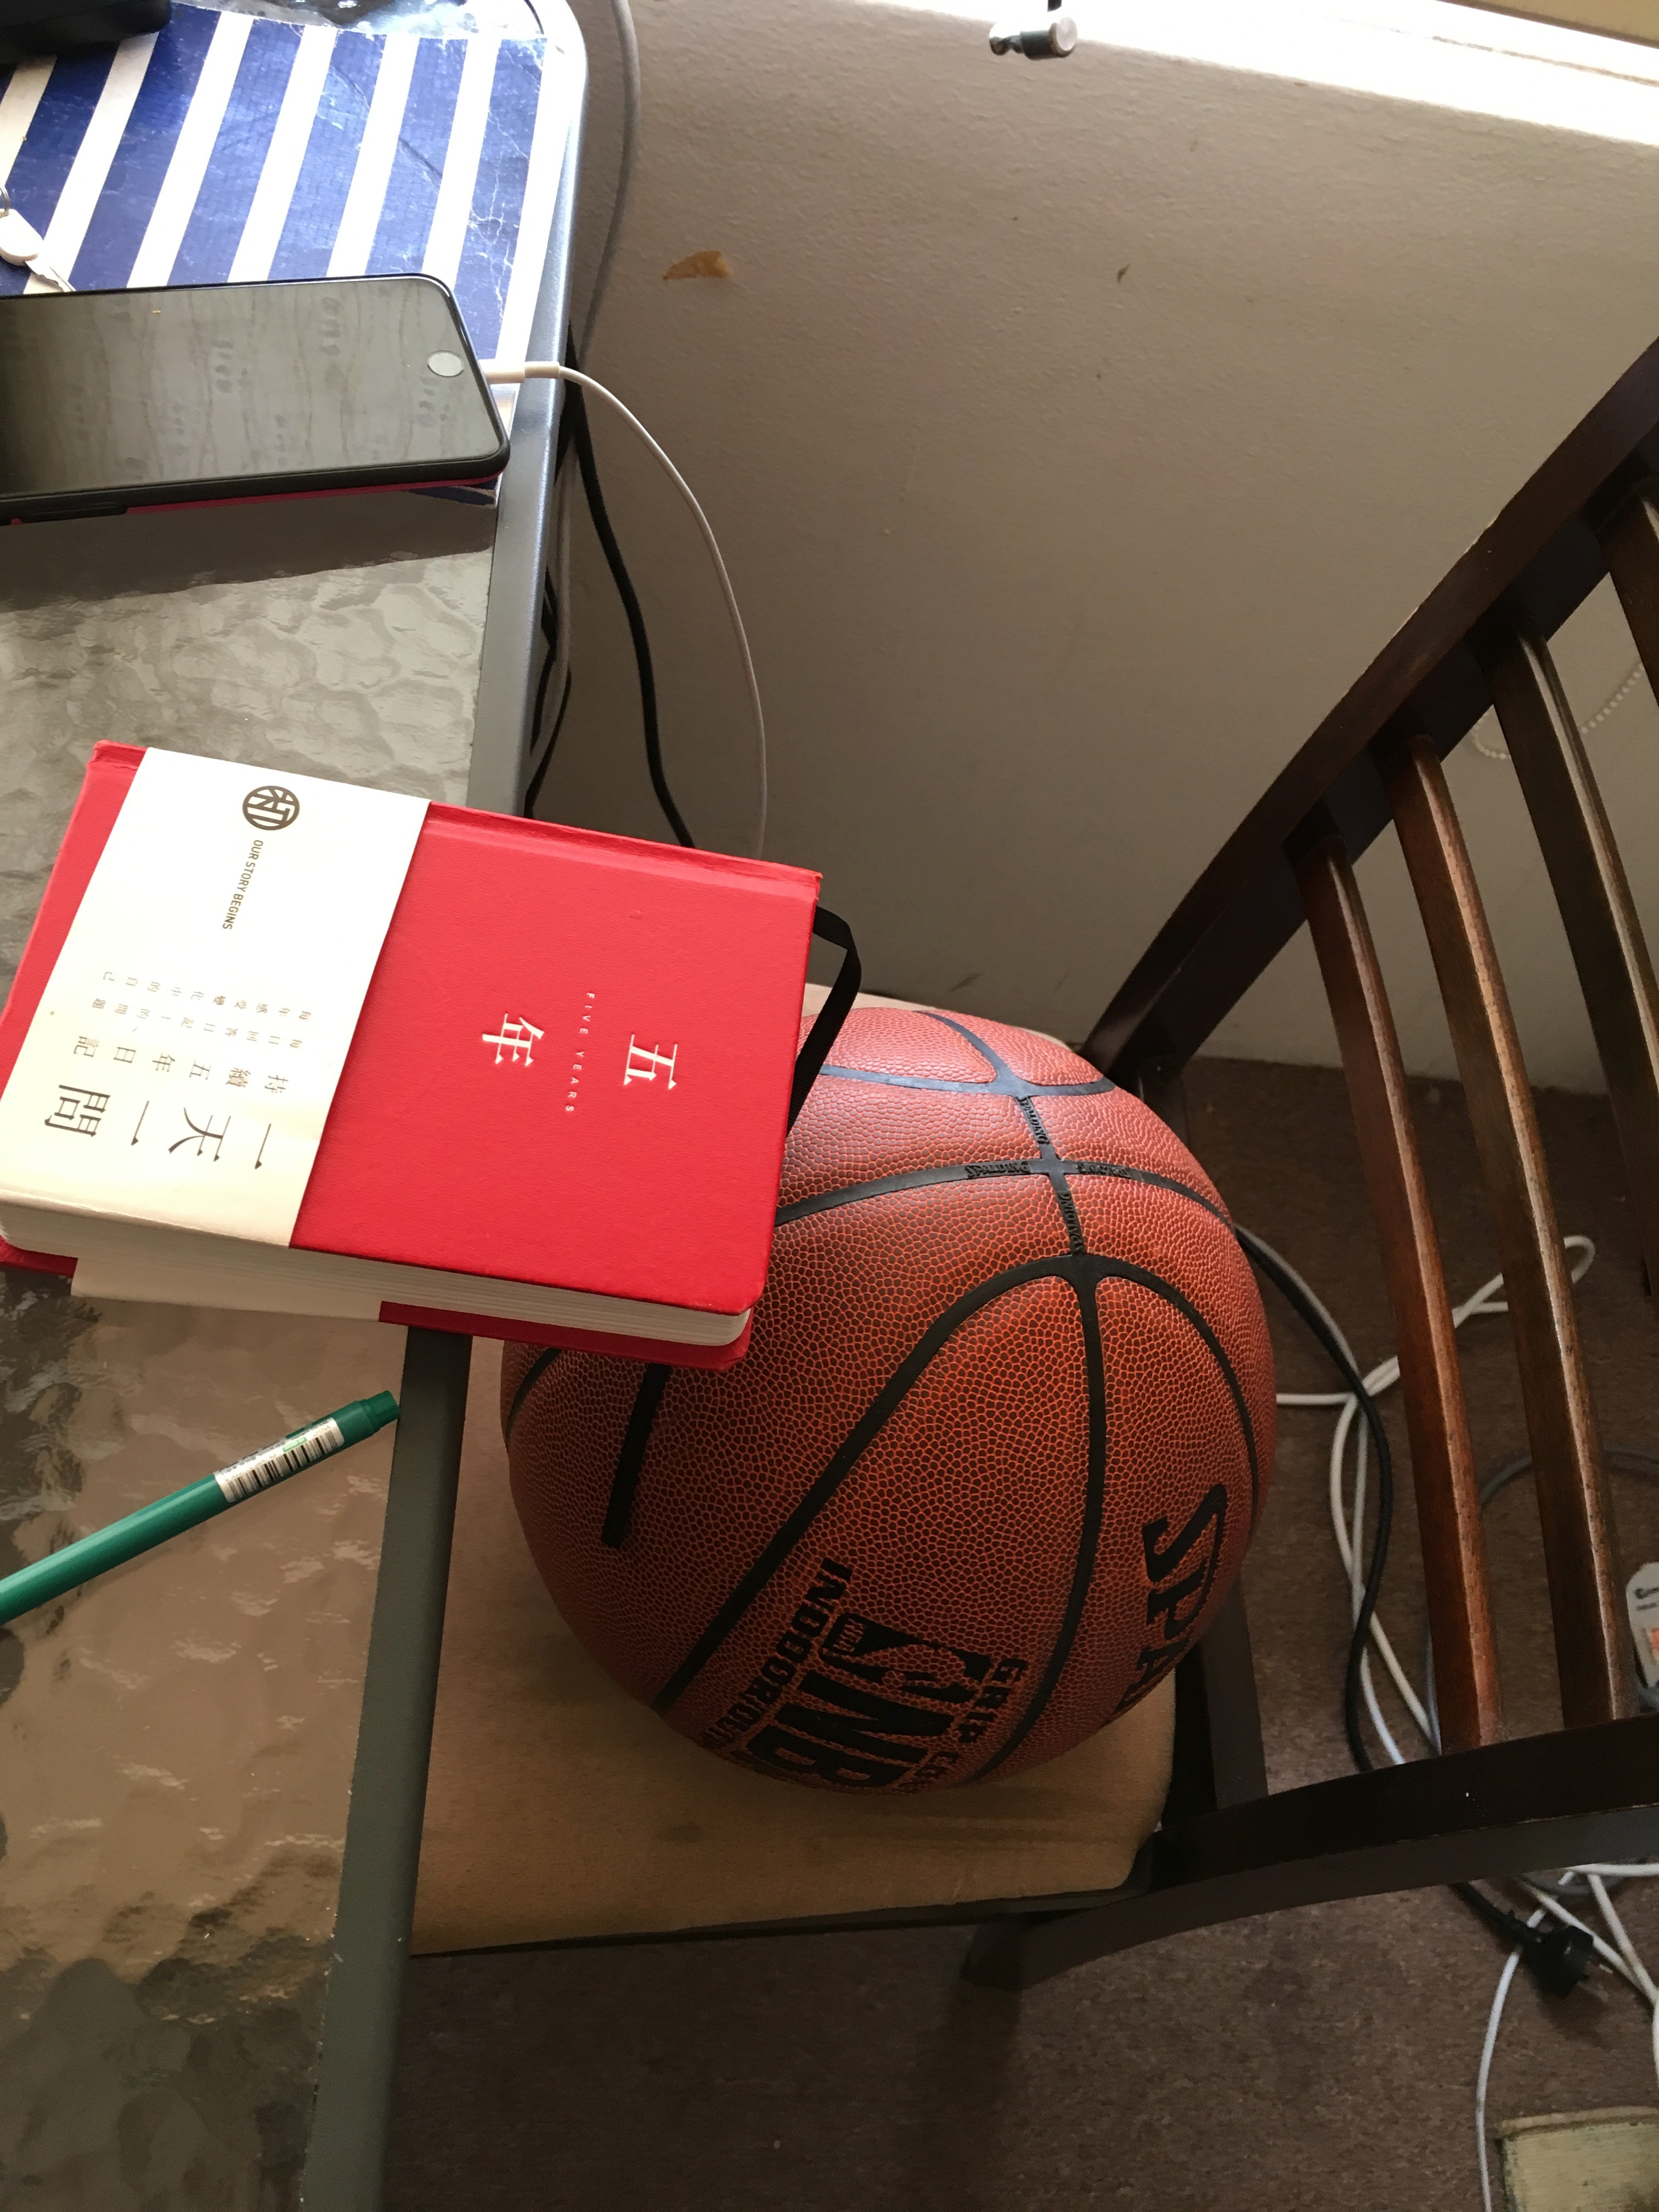Basketball: (477, 986, 1300, 1808)
